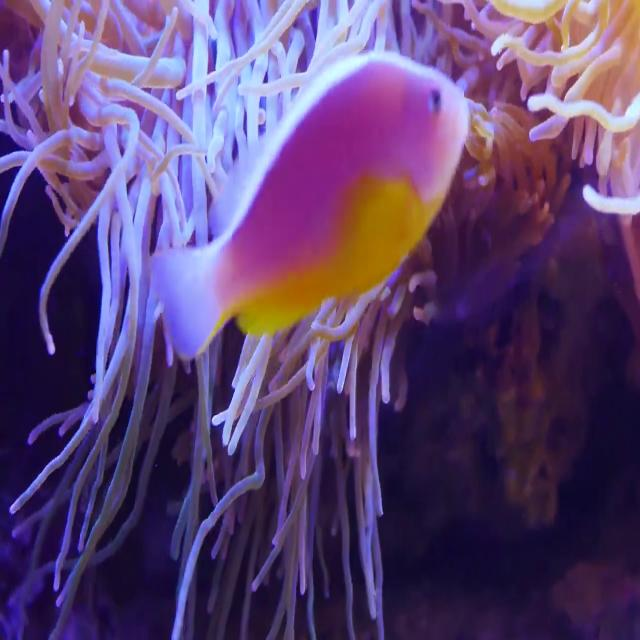fish: (138, 44, 474, 374)
